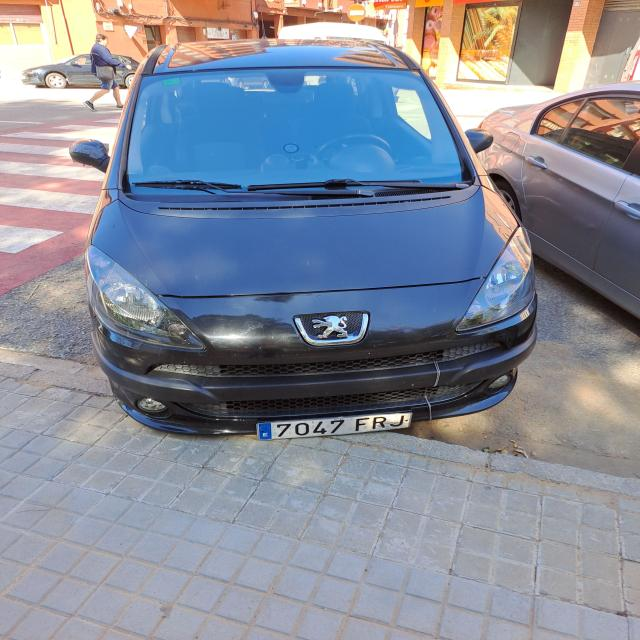license_plate-34Td: (257, 411, 412, 440)
